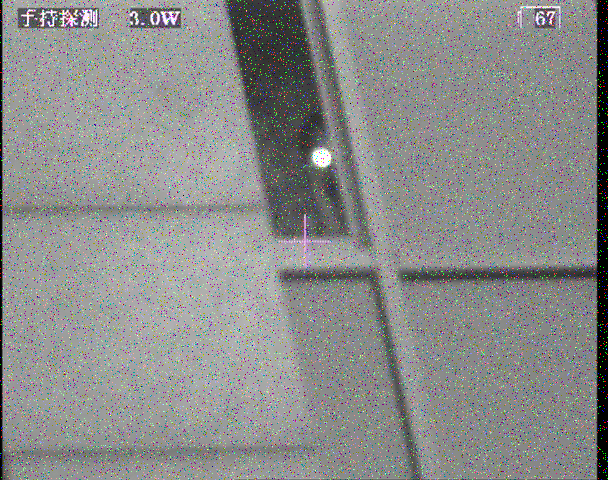my: (311, 146, 332, 169)
